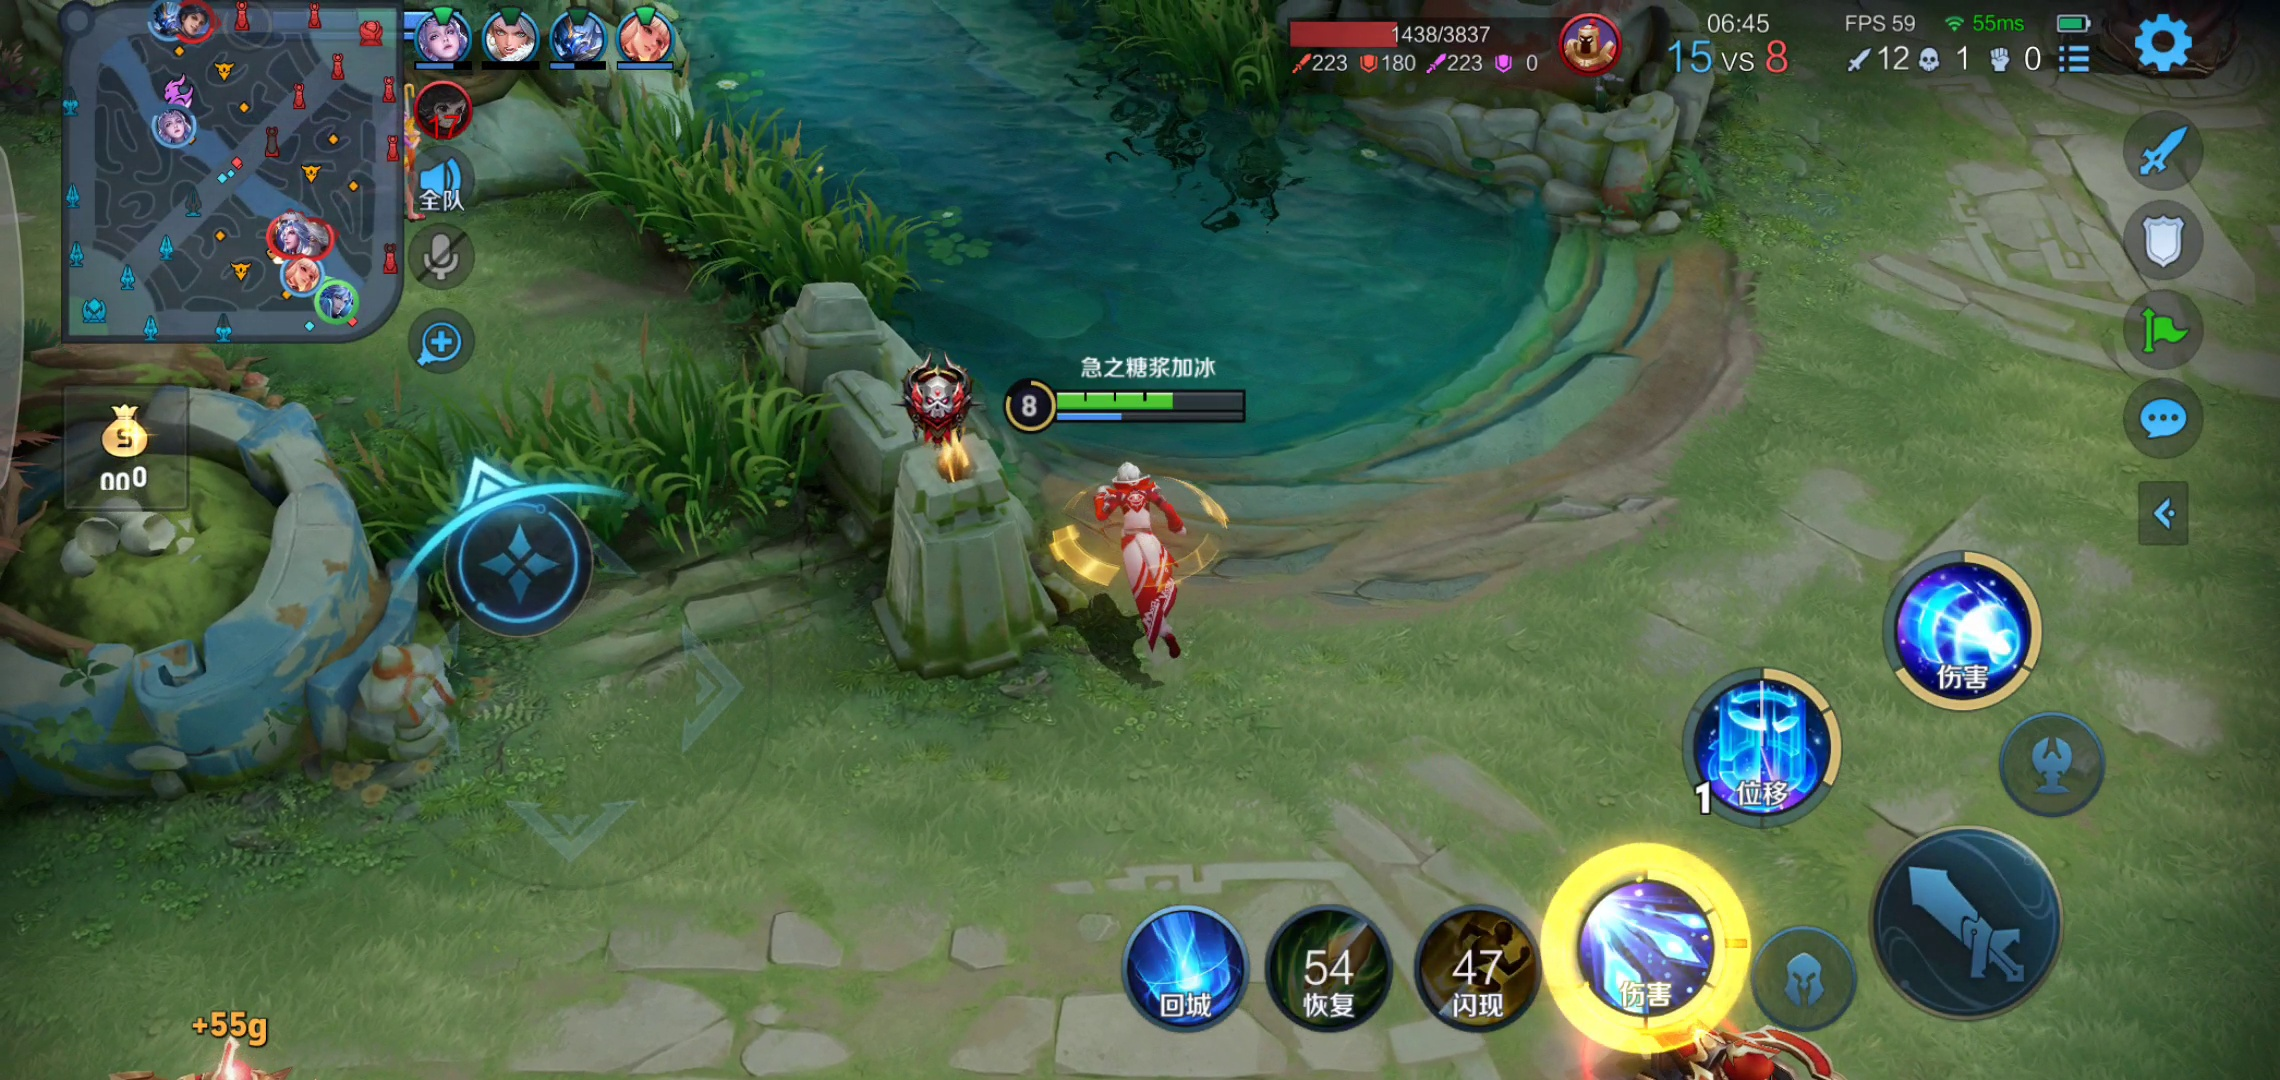grass: (321, 406, 810, 555), (585, 96, 903, 313), (1051, 1, 1298, 109)
hero: (1061, 456, 1243, 664)
